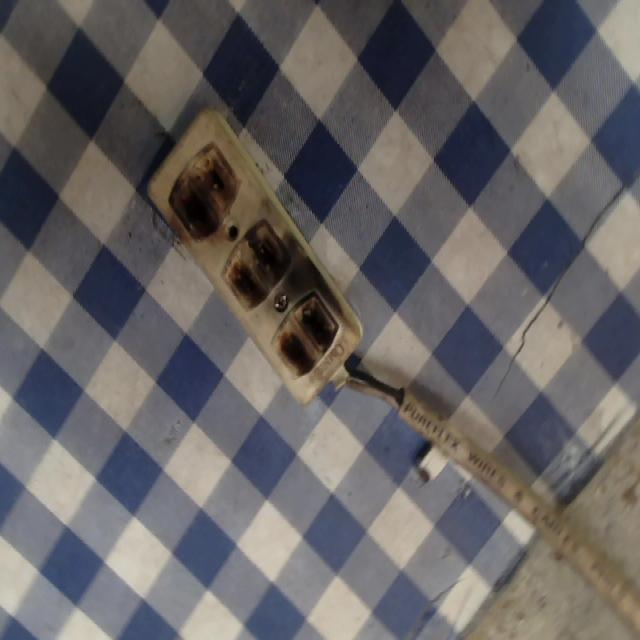-: (164, 147, 244, 237), (265, 291, 343, 376), (212, 223, 293, 304)
